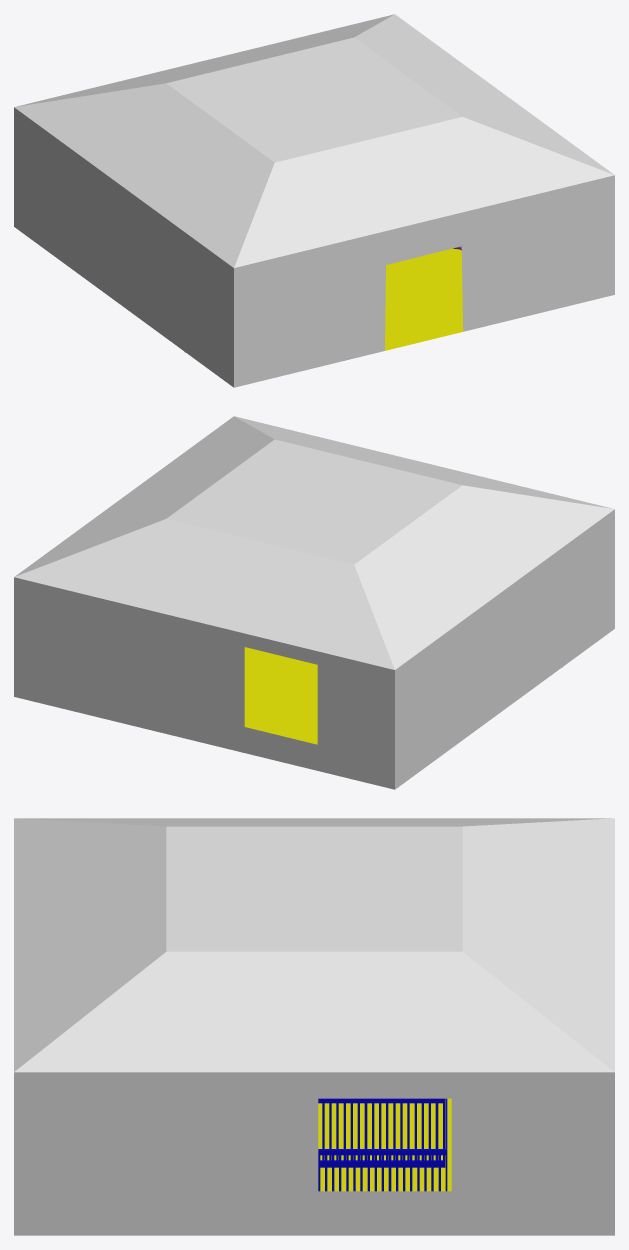
Rendered from correction_room_scene.fbx.
The picture shows the model from 3 angles, top to bottom: view 1: azimuth 30°, elevation 25°; view 2: azimuth 150°, elevation 25°; view 3: azimuth 270°, elevation 25°; orthographic projection. The views are drawn at different scales.
Parts seen in each view (by area): view 1: pCube5, pCube6; view 2: pCube5, pCube6; view 3: pCube5, pCube6, Cube.008, Cube.016.
Boxes of the visible parts, box(x1,y1,x2,y2) form: pCube5: box(14, 14, 614, 387); pCube6: box(14, 17, 613, 386); pCube5: box(14, 416, 614, 789); pCube6: box(14, 418, 614, 787); pCube5: box(14, 818, 614, 1235); pCube6: box(14, 818, 614, 1235); Cube.008: box(318, 1098, 445, 1167); Cube.016: box(318, 1098, 447, 1191).
Bounding box in the file's own units: 10 × 4.09 × 10.
